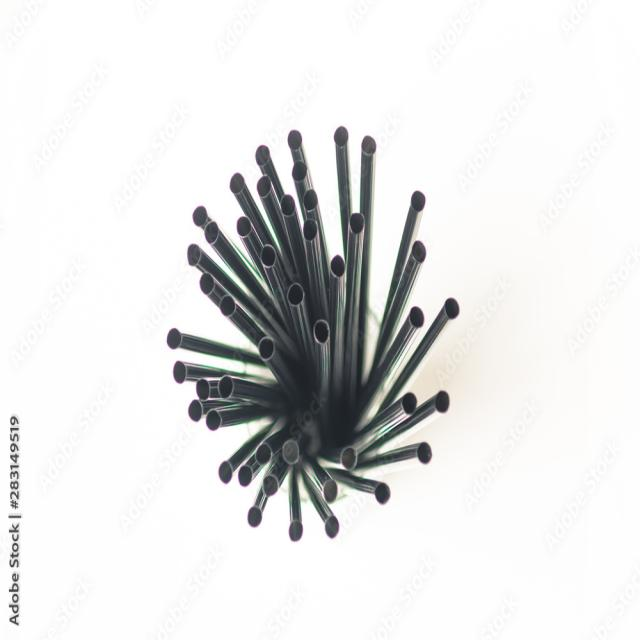plastic: (155, 318, 237, 357)
